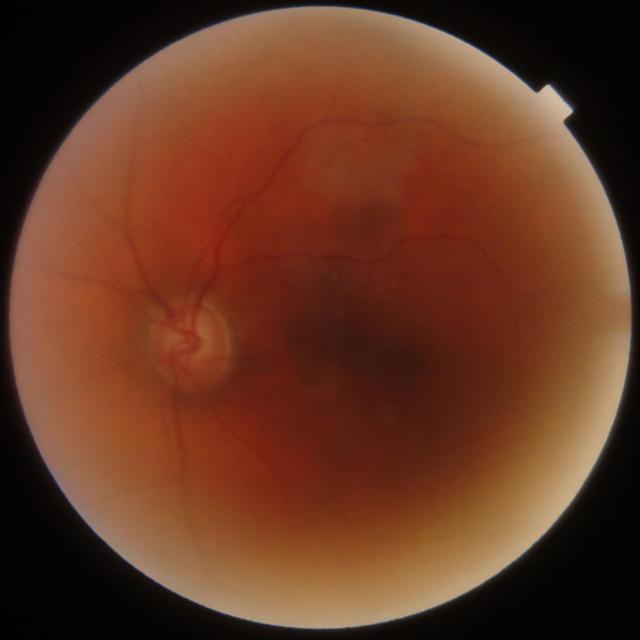OC: (178, 330, 207, 358)
OD: (153, 302, 227, 391)
